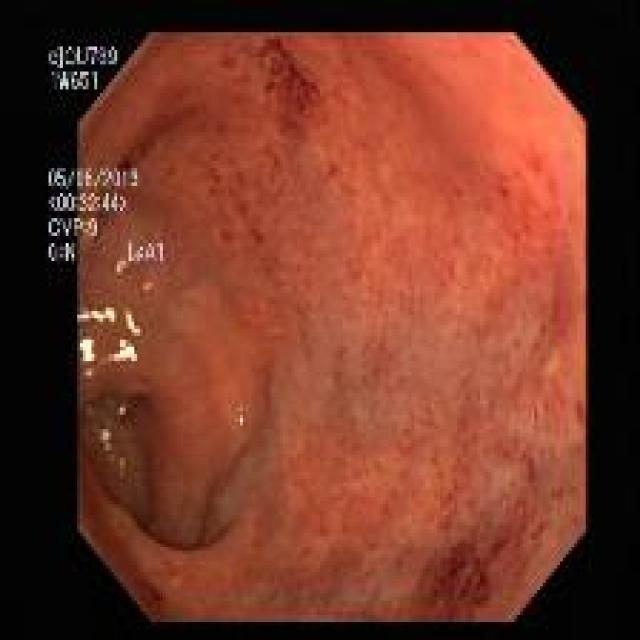ulcerative-colitis: (76, 33, 586, 621)
